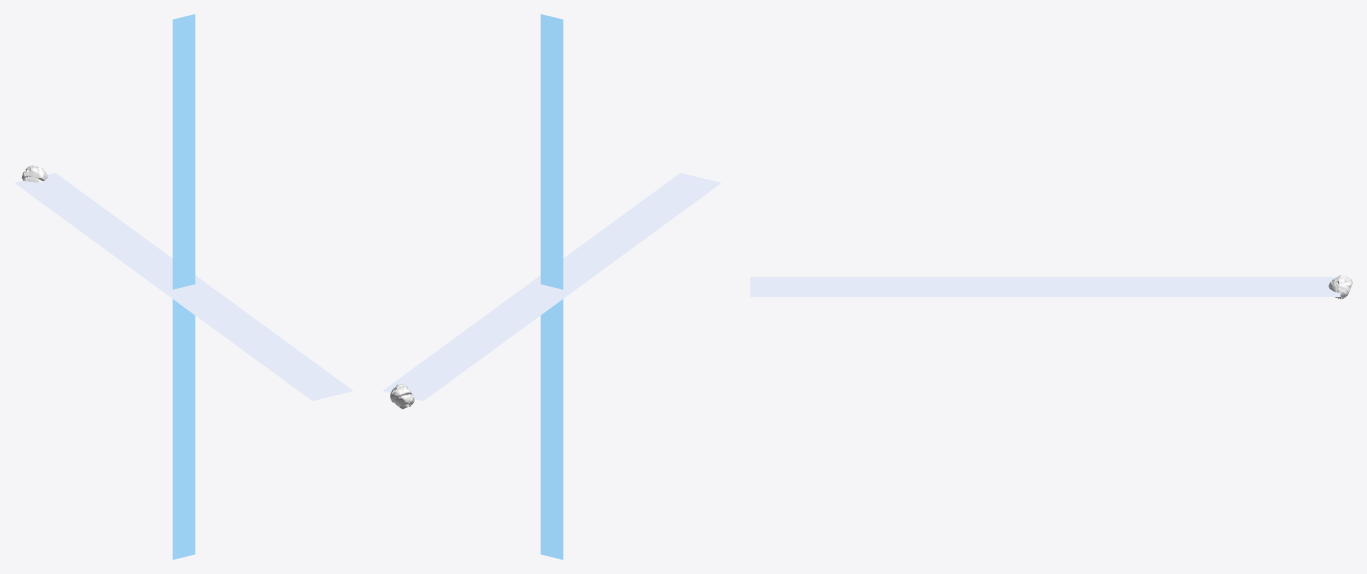
The model's file is ENV_Comet_01.glb.
3 views of the same model, side by side, from view 1: azimuth 30°, elevation 25°; view 2: azimuth 150°, elevation 25°; view 3: azimuth 270°, elevation 25° (orthographic).
Parts seen in each view (by area): view 1: ENV_Comet_01_Tail_Ion, ENV_Comet_01_Tail_Dust; view 2: ENV_Comet_01_Tail_Ion, ENV_Comet_01_Tail_Dust, ENV_Comet_01_Nucleus; view 3: ENV_Comet_01_Tail_Dust.
Part boxes in pixels (box(x1,y1,x2,y2)): ENV_Comet_01_Tail_Ion: box(172, 14, 195, 559); ENV_Comet_01_Tail_Dust: box(15, 173, 352, 400); ENV_Comet_01_Tail_Ion: box(540, 14, 563, 559); ENV_Comet_01_Tail_Dust: box(383, 173, 720, 400); ENV_Comet_01_Nucleus: box(390, 384, 414, 409); ENV_Comet_01_Tail_Dust: box(750, 277, 1340, 296).
Size of the model in its own units: 72 by 900 by 918.
